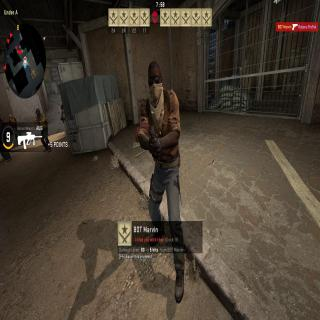T-Body: (136, 59, 192, 302), (34, 108, 51, 153), (60, 104, 71, 148), (0, 122, 12, 162), (8, 113, 21, 141)
T-Head: (147, 62, 166, 104), (36, 108, 40, 117), (61, 105, 64, 111), (10, 114, 12, 119)
